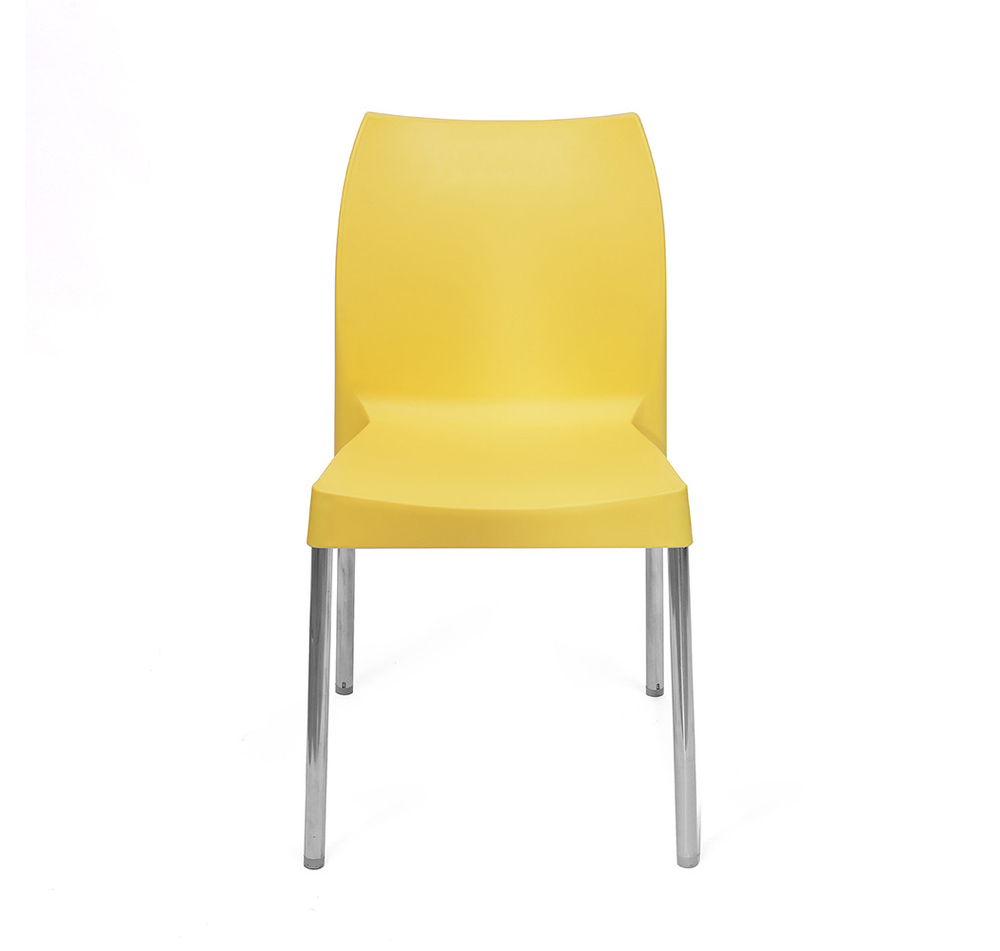chairs: (281, 93, 715, 884)
